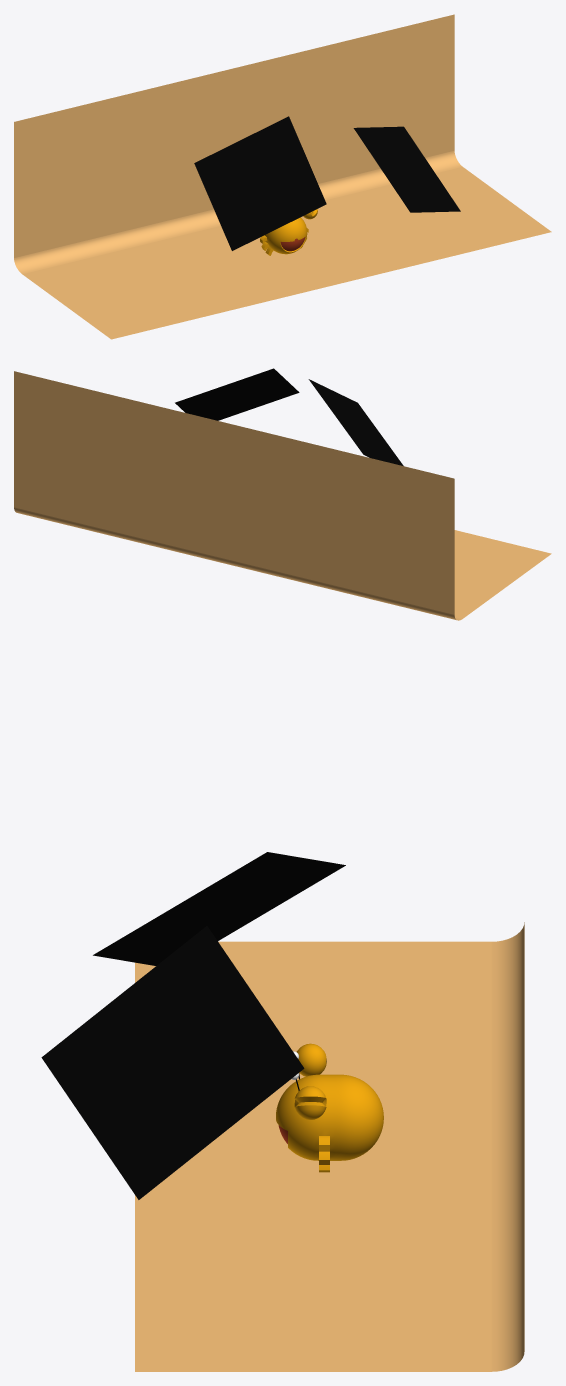
File: crab.fbx
3 renders of one model, top to bottom at view 1: azimuth 30°, elevation 25°; view 2: azimuth 150°, elevation 25°; view 3: azimuth 270°, elevation 25°, orthographic. The views are drawn at different scales.
Visible parts, largest first — view 1: 立方体, 平面, 平面_1, 胶囊; view 2: 立方体, 平面_1, 平面; view 3: 立方体, 平面_1, 平面, 胶囊, 球体_2.
Boxes of the visible parts, x1,y1,x2,y2 form: 立方体: (14, 14, 551, 339); 平面: (194, 116, 326, 250); 平面_1: (353, 126, 460, 212); 胶囊: (260, 217, 308, 255); 立方体: (14, 371, 551, 620); 平面_1: (175, 368, 299, 420); 平面: (308, 379, 403, 465); 立方体: (135, 922, 524, 1371); 平面_1: (41, 926, 304, 1199); 平面: (93, 852, 345, 965); 胶囊: (276, 1074, 383, 1172); 球体_2: (294, 1043, 326, 1119).
Bounding box in the file's own units: 2351 × 757 × 1116.
6 materials, 1 textured.
